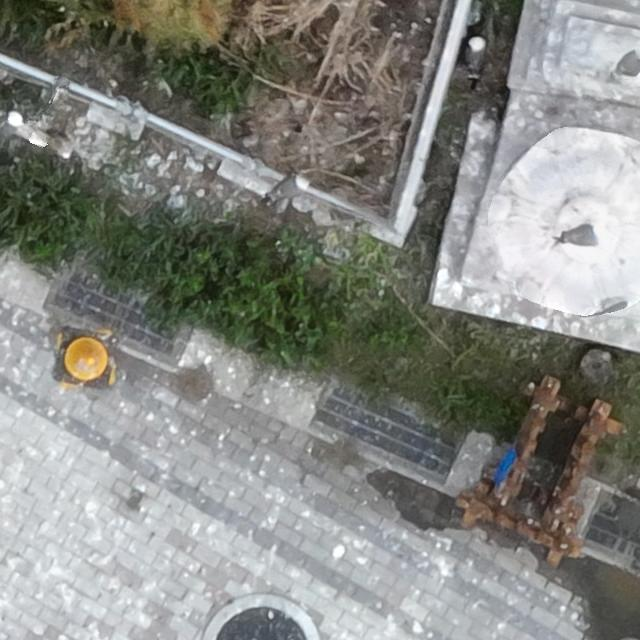umineko: (556, 220, 604, 248), (270, 175, 308, 199), (467, 37, 485, 74), (2, 114, 21, 141)
